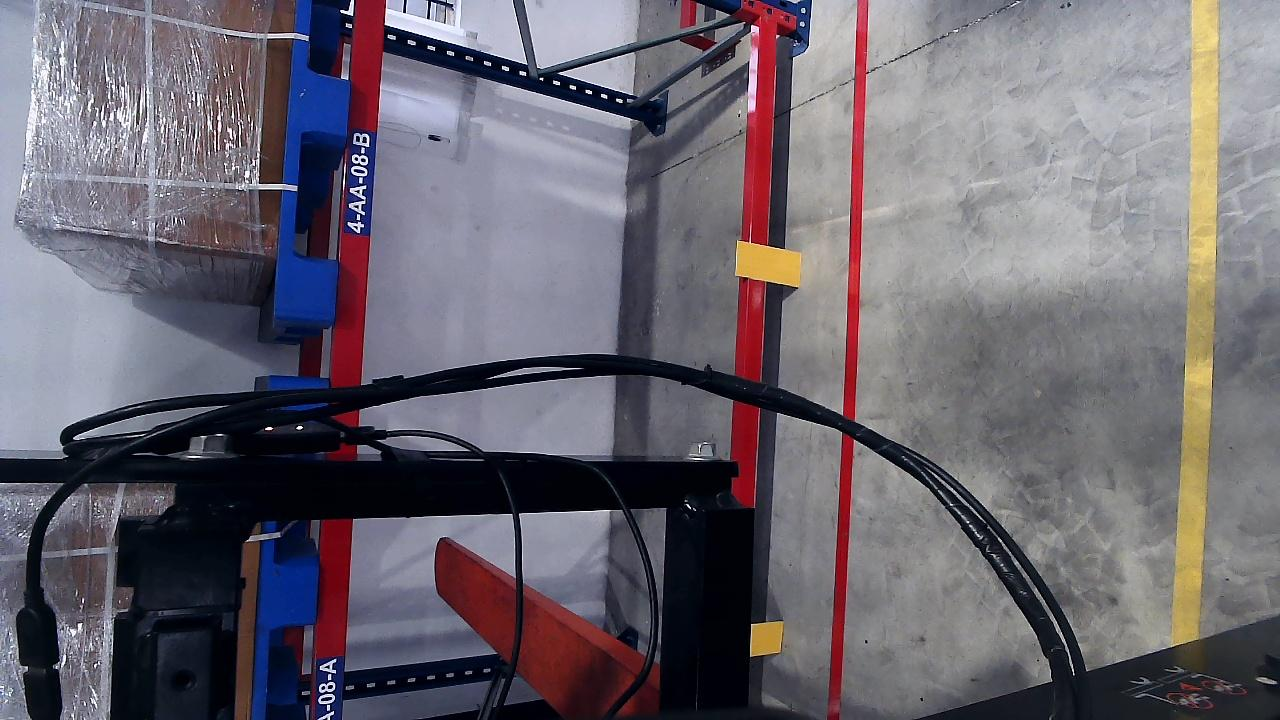h_rack: (331, 0, 389, 384), (740, 14, 781, 379), (311, 444, 359, 718)
orange_strip: (735, 241, 801, 287)
red_line: (842, 3, 868, 439), (825, 430, 856, 718)
small_pallet: (270, 0, 362, 318)
yellow_line: (1172, 55, 1221, 655)
